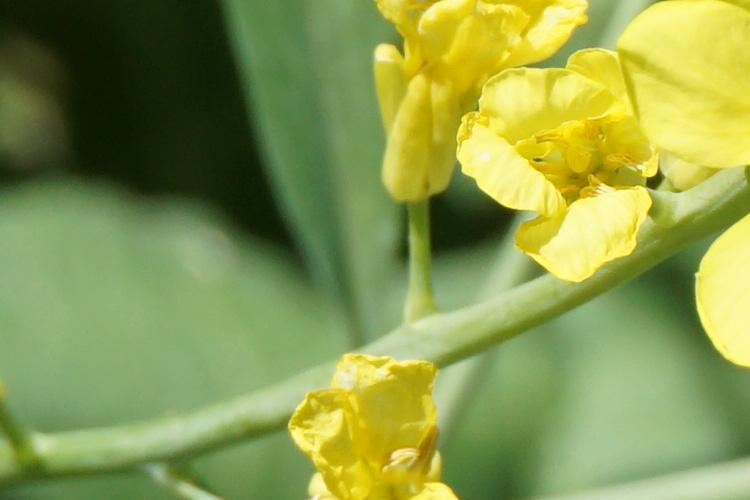yellow: (470, 60, 659, 275), (368, 6, 558, 187), (292, 353, 455, 496), (625, 16, 750, 163), (704, 221, 750, 368)
